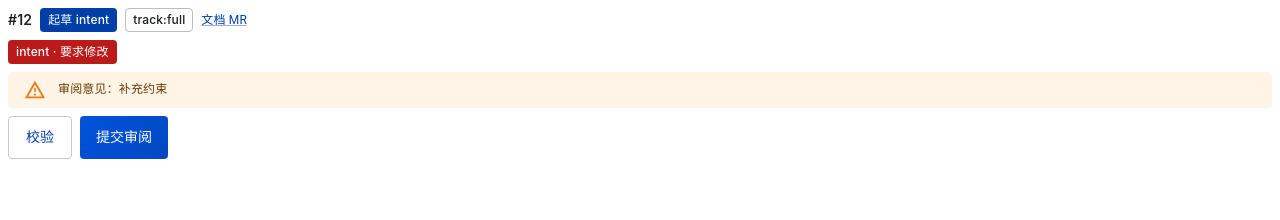
Test case: FlowGatePanel › 校验 with no issues shows 校验通过
Expected: the text "审阅意见：补充约束" is shown, [58,81,167,96]
Click the button "校验" at (40, 137), box [8,116,72,158]
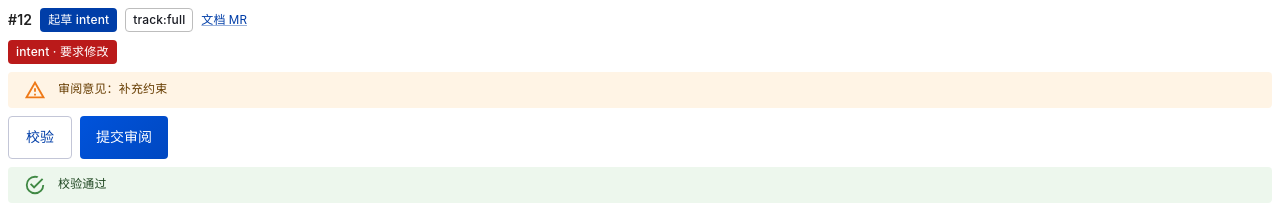
Now the text "校验通过" is shown, box [58,176,107,190]
